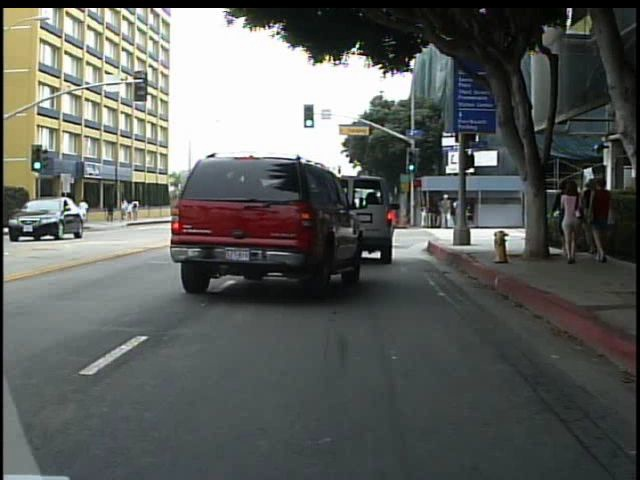person: (587, 176, 618, 268), (554, 177, 585, 268), (438, 190, 455, 233), (77, 197, 94, 225)
